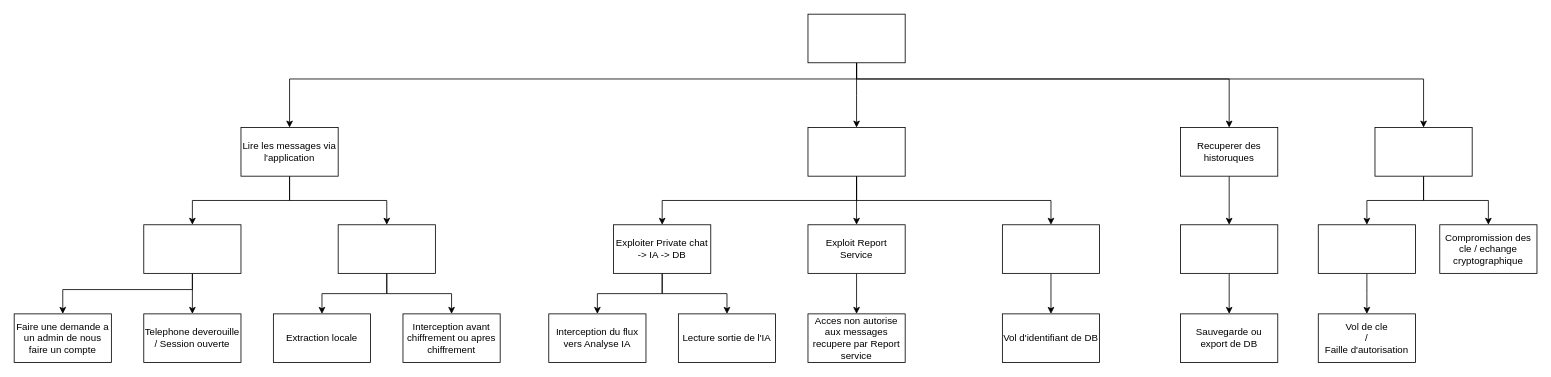
The diagram is 1551 pixels wide and 377 high, and some of its shapes have lost their labels. Each missing label, with the centre of its shape:
"Acces a un telephone de manager" belongs at point 192,248.
"Compromettre app iOs" belongs at point 386,248.
"Compromettre DB" belongs at point 1051,248.
"compromission Auth" belongs at point 1366,248.
"Contourner / casser la chaine d'Auth" belongs at point 1423,151.
"Lire messages problematiques en clair" belongs at point 856,38.
"Recuperer les messages en les interceptants via le reseau interne" belongs at point 856,151.
"Sauvegarde appareil / Cloud" belongs at point 1229,248.
